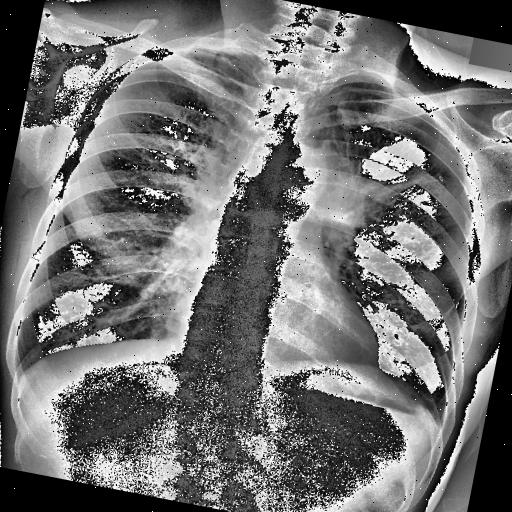10- Pleural effusion: (8, 358, 40, 382), (424, 408, 450, 434)
11- Pleural thickening: (200, 40, 256, 61), (8, 358, 40, 382), (424, 408, 450, 434)
13- Pulmonary fibrosis: (302, 125, 434, 238), (318, 152, 438, 241)
4- Consolidation: (318, 152, 438, 241), (316, 154, 424, 238)
7- Lung Opacity: (302, 125, 434, 238), (316, 154, 424, 238)
8- Nodule-Mass: (312, 168, 376, 228)
9- Other lesion: (50, 120, 58, 130), (38, 70, 46, 76), (438, 174, 443, 182)
